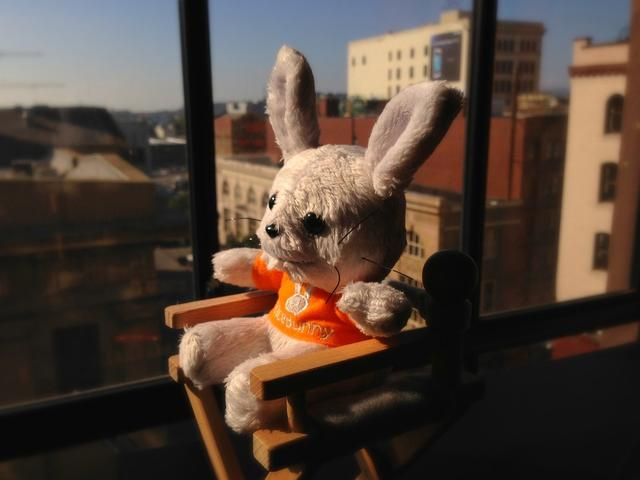rabbit: (125, 38, 481, 426)
